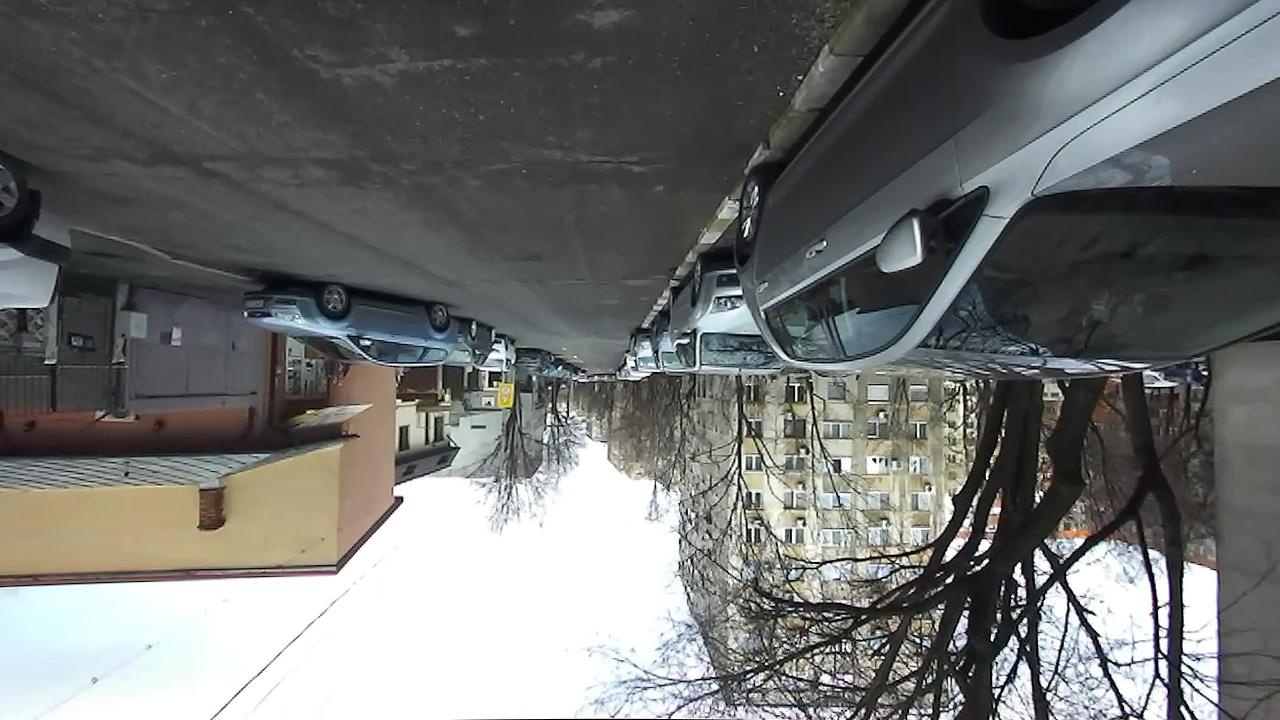pothole: (554, 148, 658, 176)
